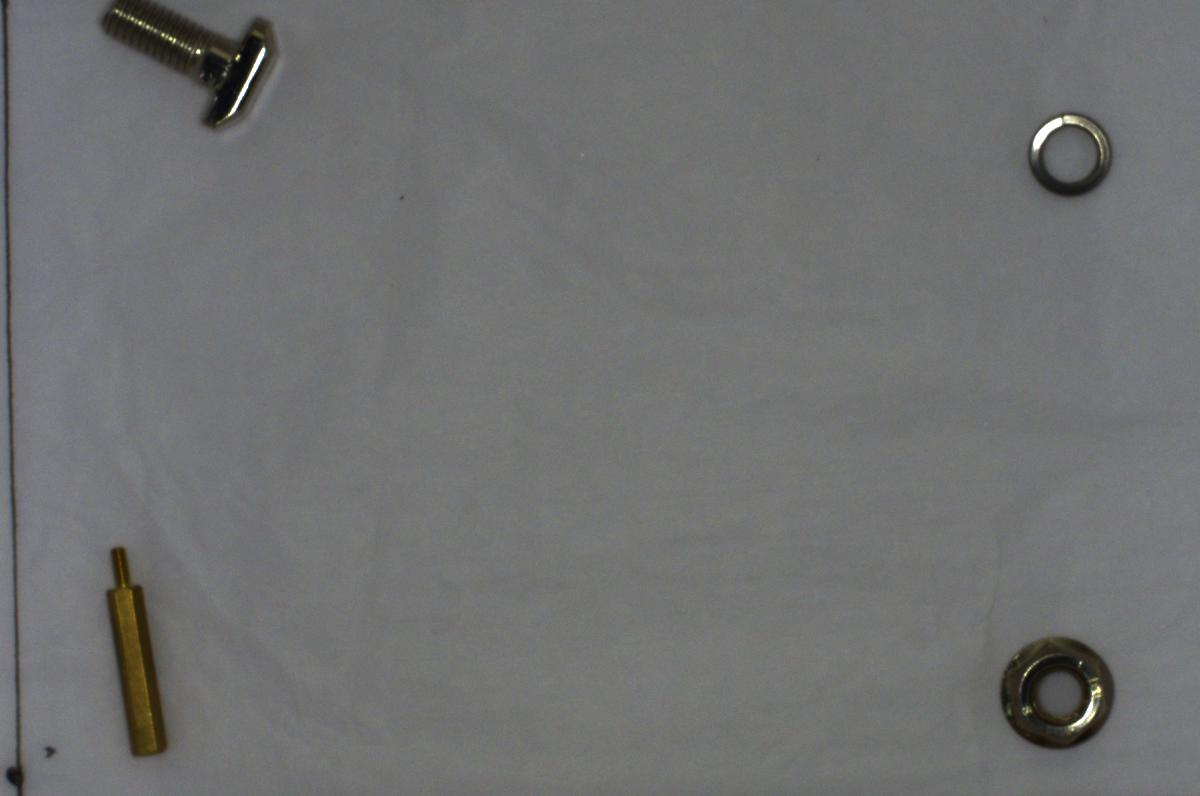Flange nut: (982, 608, 1119, 753)
Hexagon pillar: (94, 529, 177, 767)
Spring washer: (1018, 103, 1124, 195)
T-shaped screw: (90, 0, 291, 135)
